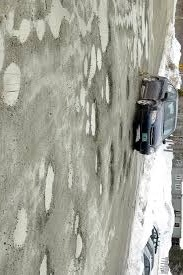pothole: (2, 61, 23, 114), (10, 207, 33, 249), (48, 1, 67, 43), (41, 161, 54, 219), (117, 3, 136, 34), (100, 1, 111, 53), (74, 15, 95, 38), (16, 19, 33, 45), (63, 158, 76, 191), (34, 251, 51, 274), (88, 104, 99, 138), (77, 82, 88, 110), (68, 210, 81, 233), (73, 234, 84, 260), (34, 18, 45, 41), (5, 10, 14, 38), (89, 44, 96, 80), (139, 1, 146, 37), (104, 73, 111, 107), (96, 177, 105, 197), (107, 166, 116, 186), (81, 53, 88, 78), (135, 41, 142, 66), (125, 78, 132, 101), (143, 37, 150, 60), (95, 49, 102, 71), (93, 152, 100, 172), (108, 144, 115, 164), (120, 149, 127, 169), (84, 100, 89, 117), (84, 118, 89, 133), (117, 125, 122, 139)
